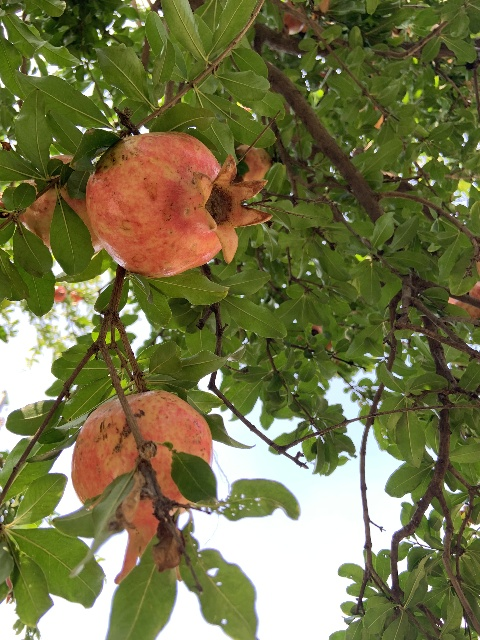ripe: (70, 390, 213, 584), (85, 132, 272, 277), (0, 155, 103, 254)
